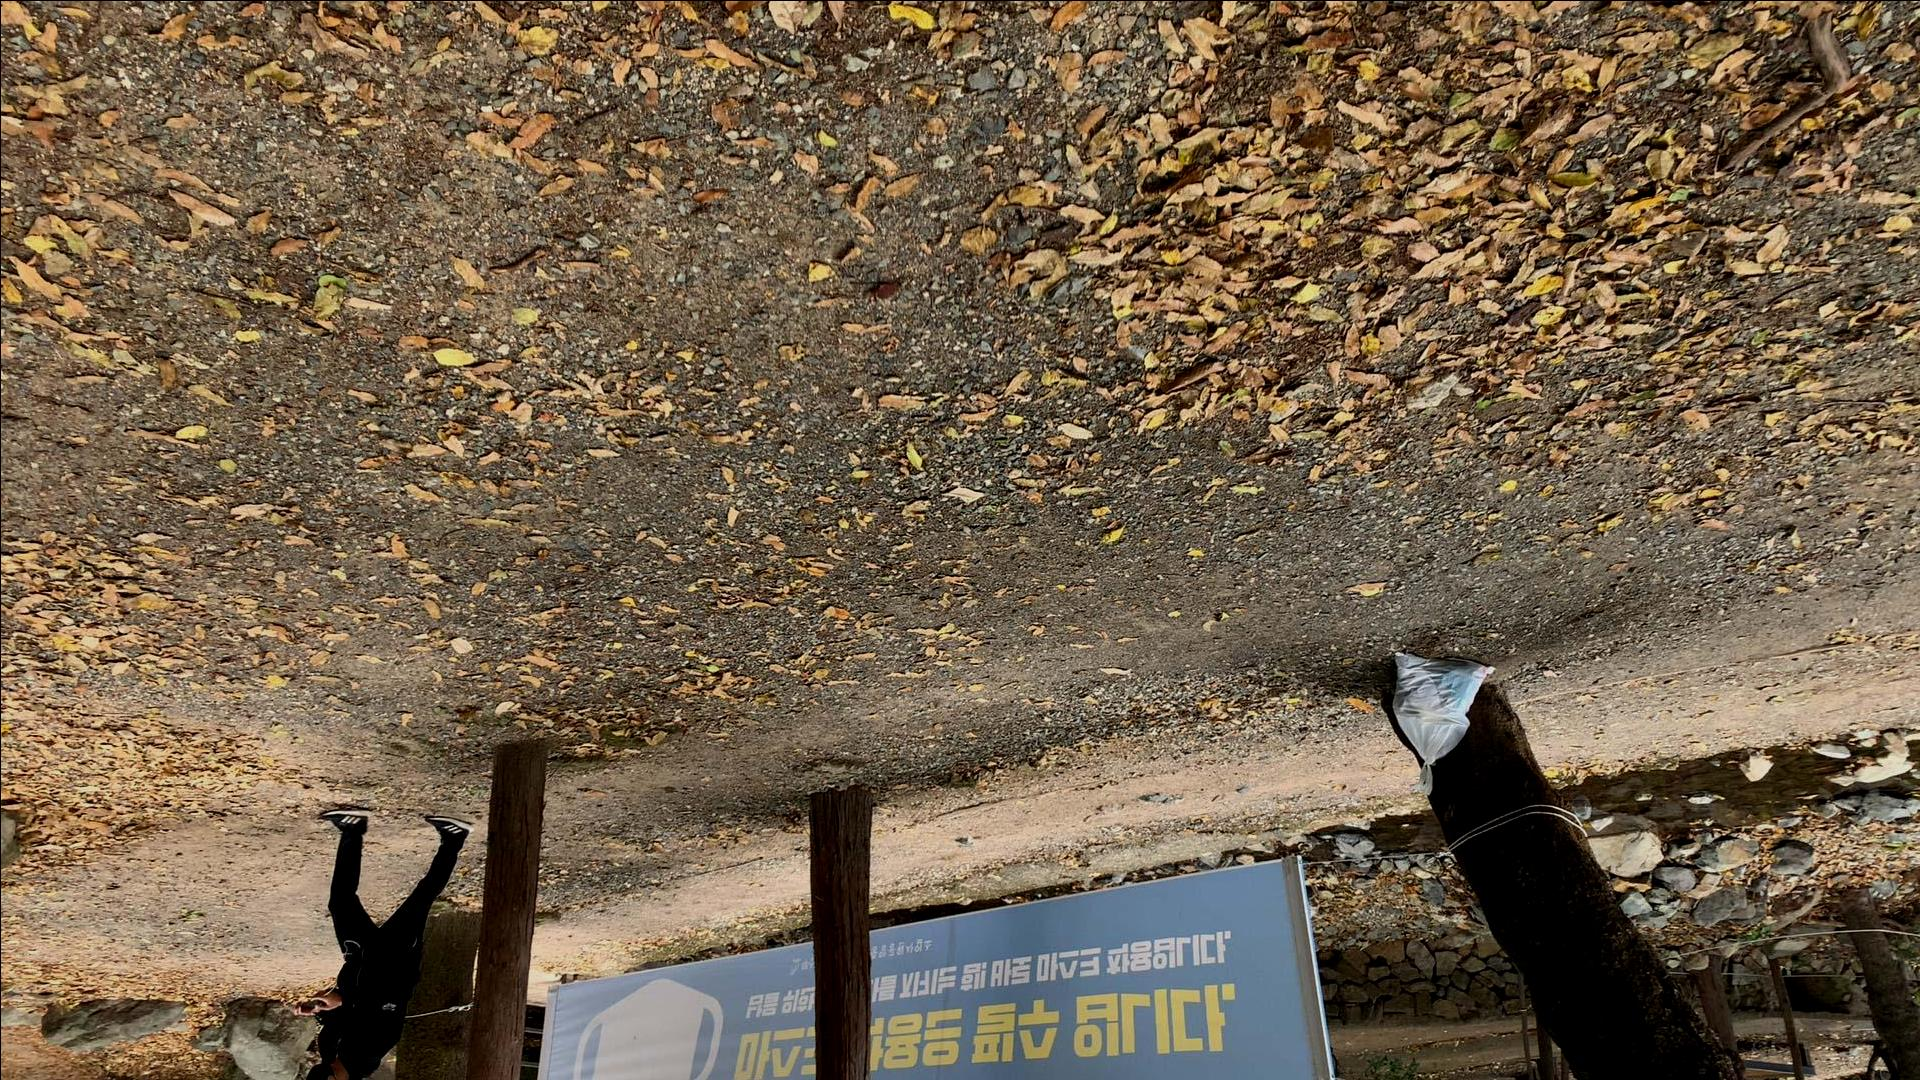white_bag: (1377, 640, 1503, 803)
